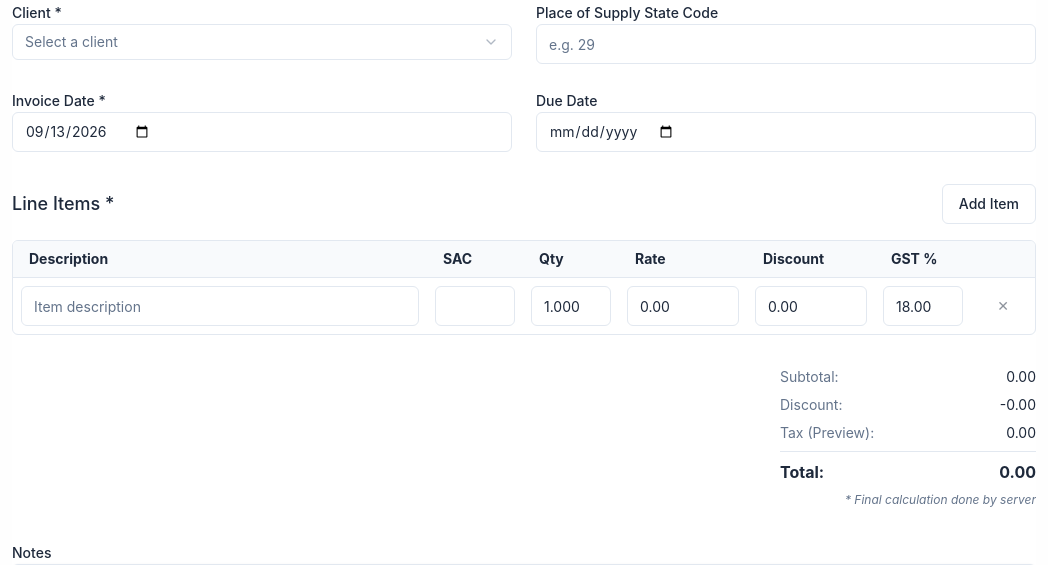
InvoiceForm › adds and removes line items
The image size is (1048, 565).
Check: the number of buttons "✕" is 1, box [985,288,1021,324]
Check: the button "✕" is disabled, box [985,288,1021,324]
# Add item
What coordinates should you click on to do the following:
click the button "Add Item"
I would click on:
 (989, 204)
Its box is [942,184,1036,224].
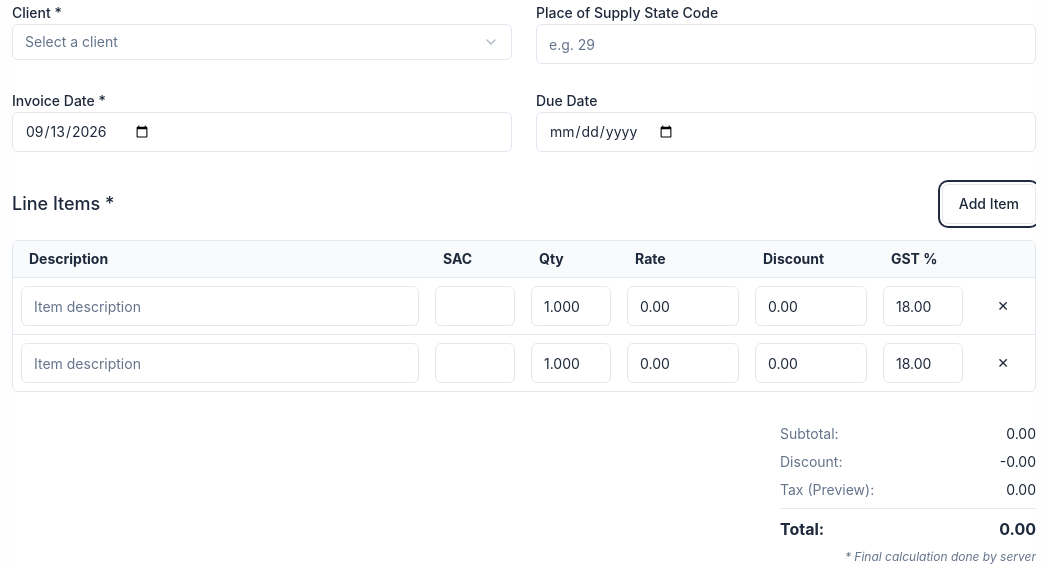
Check: the number of buttons "✕" is 2
Check: the 1st button "✕" is enabled
# Remove first item
What coordinates should you click on to do the following:
click the 1st button "✕"
I would click on:
 (1003, 306)
Its box is [985,288,1021,324].
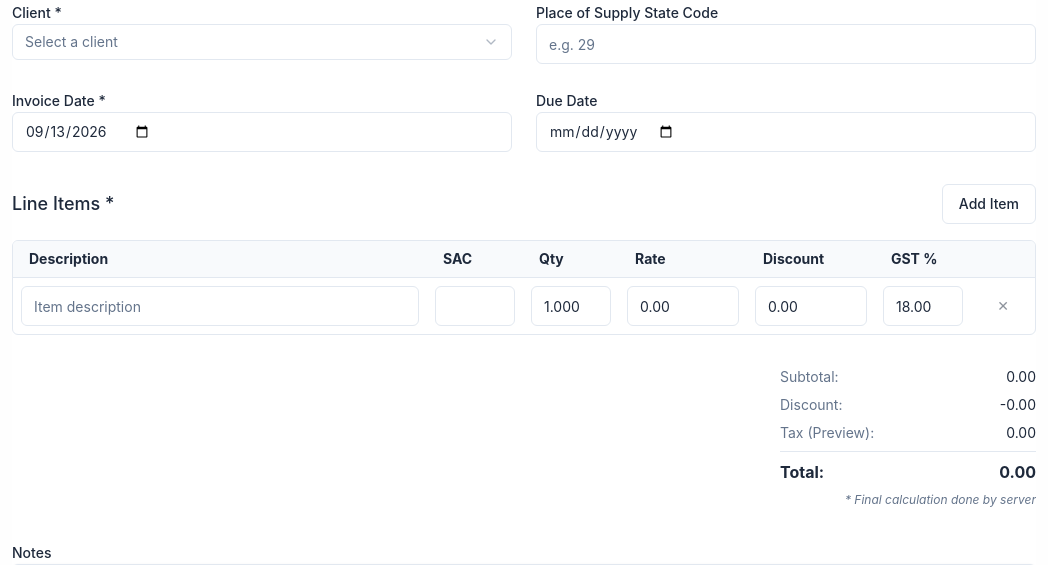
Check: the number of buttons "✕" is 1, box [985,288,1021,324]
